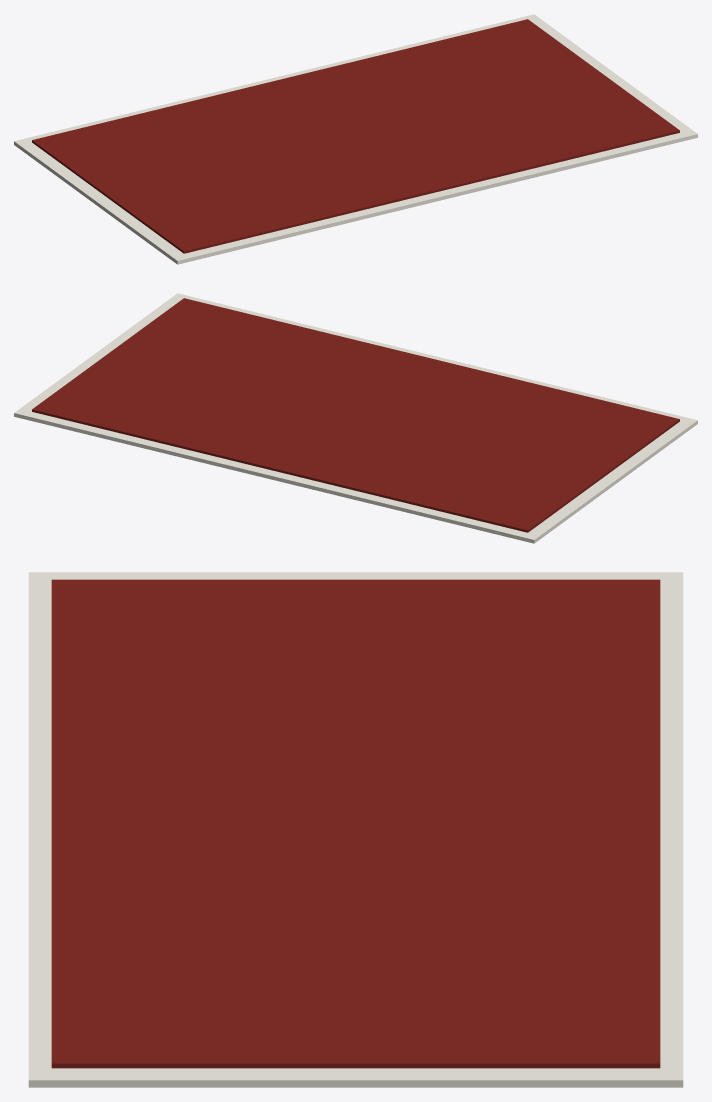
Rendered from SM_11_Hall_Platform.fbx.
3 views of the same model, one above another, from view 1: azimuth 30°, elevation 25°; view 2: azimuth 150°, elevation 25°; view 3: azimuth 270°, elevation 25° (orthographic). The views are drawn at different scales.
Visible parts, largest first — view 1: Hall_Platform; view 2: Hall_Platform; view 3: Hall_Platform.
Part boxes in pixels (x1,y1,x2,y2): Hall_Platform: [14, 14, 697, 264]; Hall_Platform: [14, 293, 697, 543]; Hall_Platform: [28, 572, 683, 1087].
Bounding box in the file's own units: 4700 × 2560 × 52.
